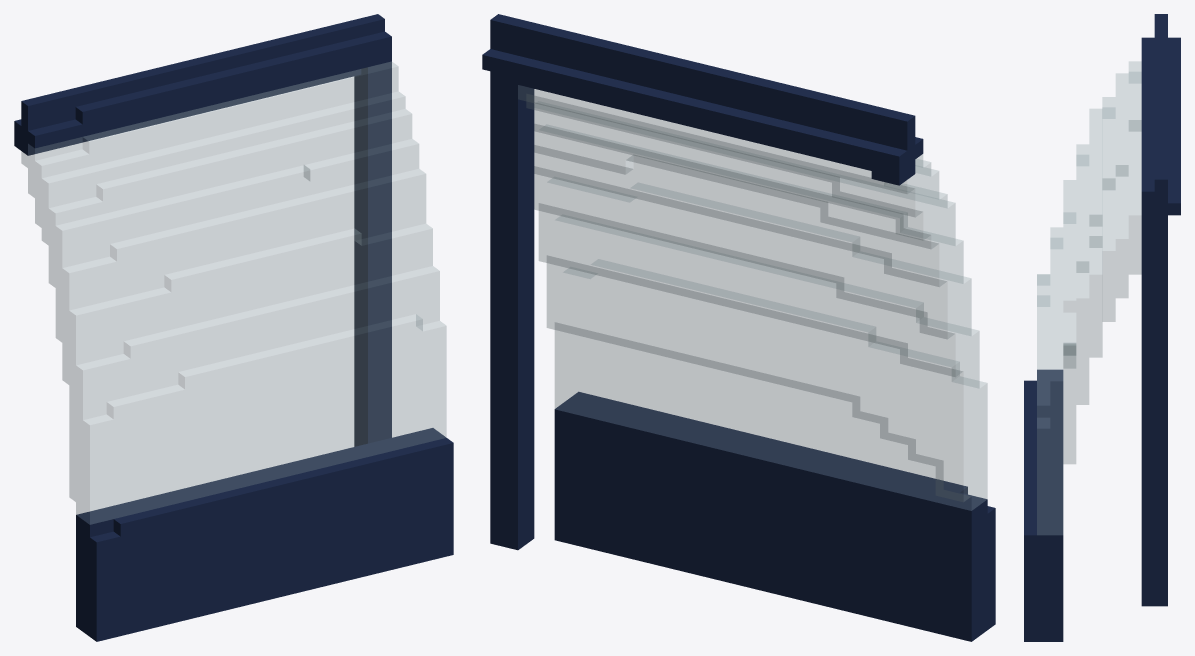
The model's file is police_helicopter_rear_door.glb.
The picture shows the model from 3 angles, left to right: view 1: azimuth 30°, elevation 25°; view 2: azimuth 150°, elevation 25°; view 3: azimuth 270°, elevation 25°; orthographic projection. The views are drawn at different scales.
Parts seen in each view (by area): view 1: body:compound; view 2: body:compound; view 3: body:compound.
Boxes of the visible parts, x1,y1,x2,y2 form: body:compound: (14, 14, 453, 641); body:compound: (482, 14, 995, 641); body:compound: (1024, 14, 1180, 641).
Size of the model in its own units: 0.9375 by 1.22 by 0.375.
